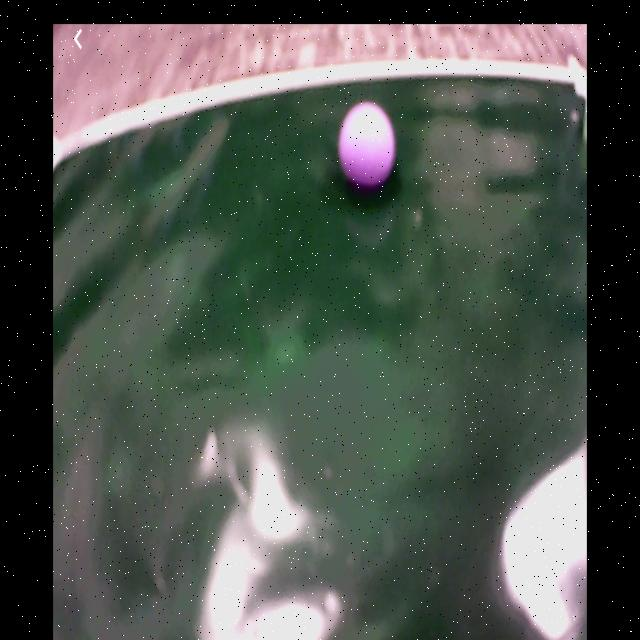ball: (341, 102, 397, 186)
